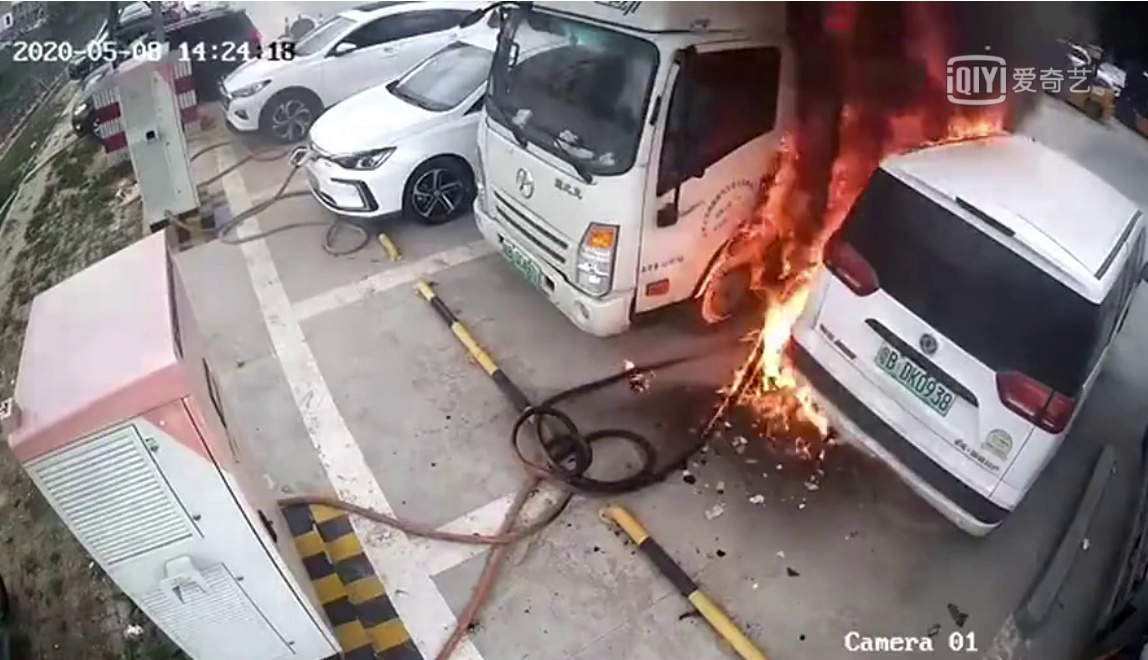fire: (726, 172, 839, 454)
smoke: (789, 5, 1093, 138)
